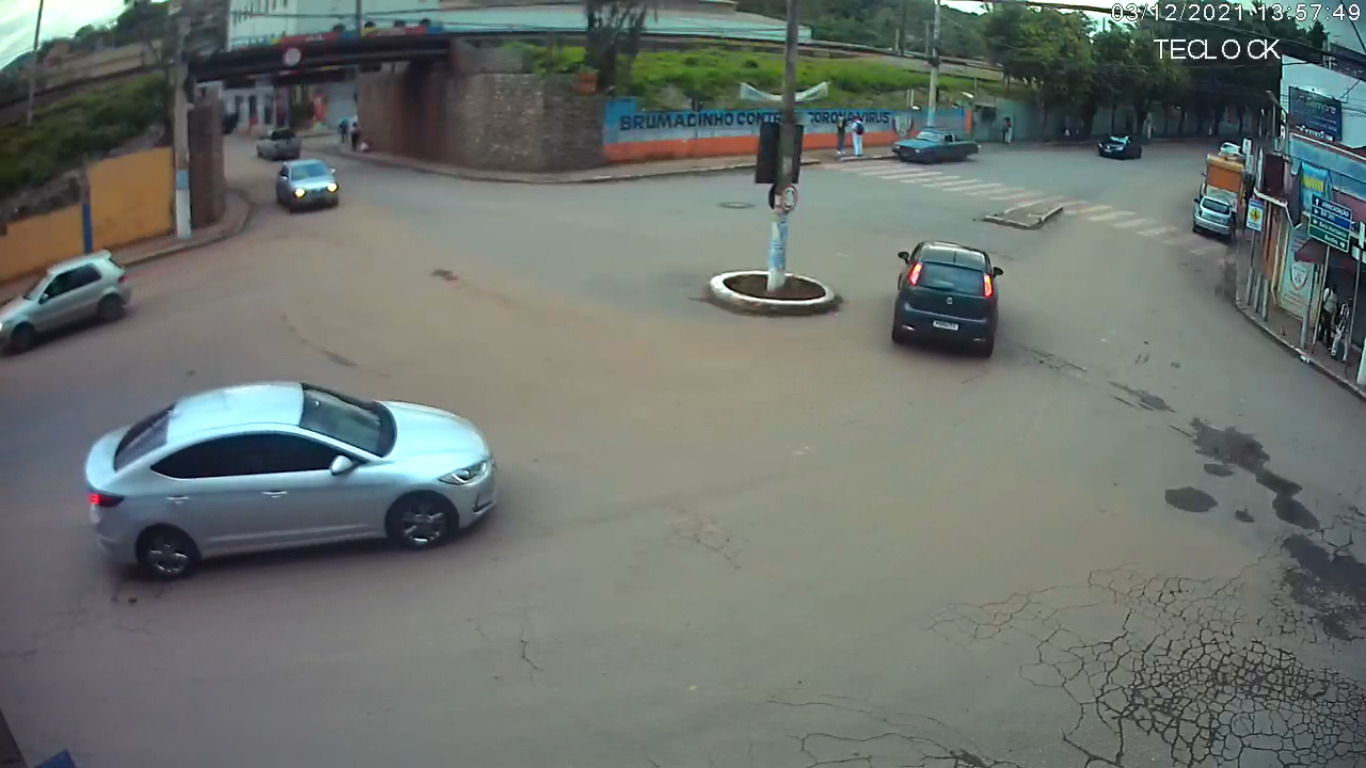car: (80, 375, 497, 584), (886, 233, 1007, 369), (1, 247, 136, 358), (273, 156, 346, 218), (890, 126, 984, 168), (1095, 129, 1144, 165)
